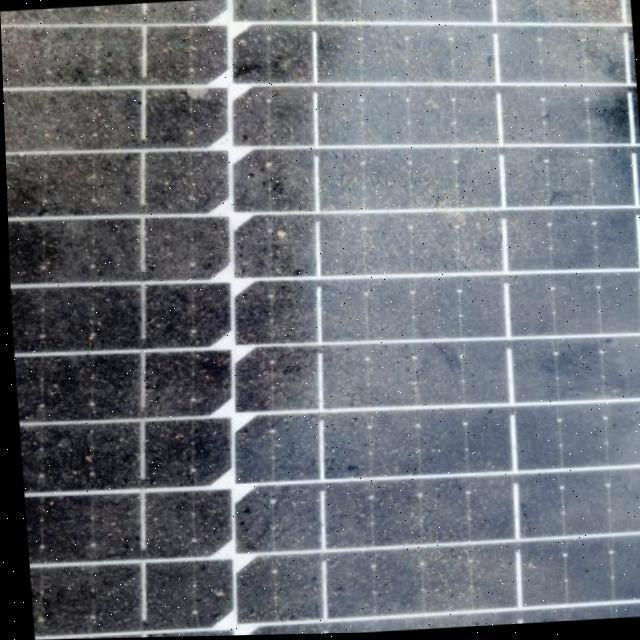Surface Contaminant: (1, 0, 640, 640)
